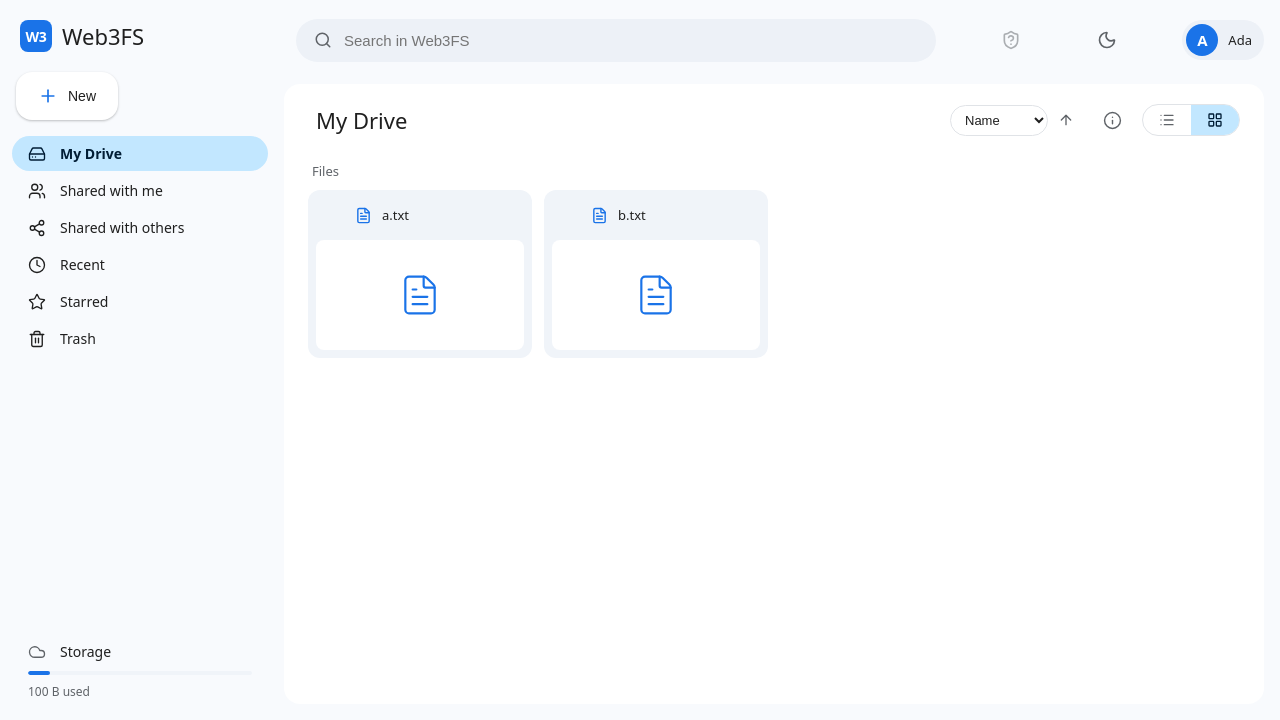
Test: multi-select toolbar › details panel shows the multi-selection summary
Click the element showing "a.txt". click: (420, 274)
box: [308,190,532,358]
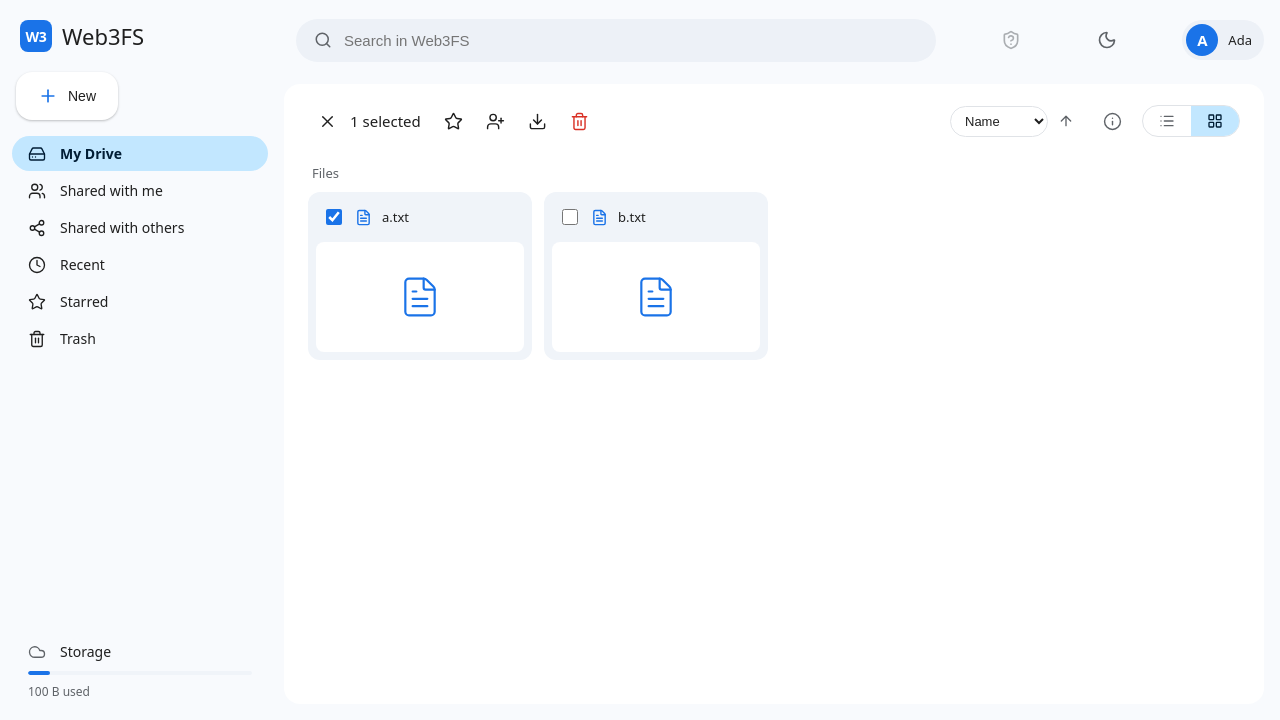
Click the element showing "b.txt". click: (656, 276)
box: [544,192,768,360]
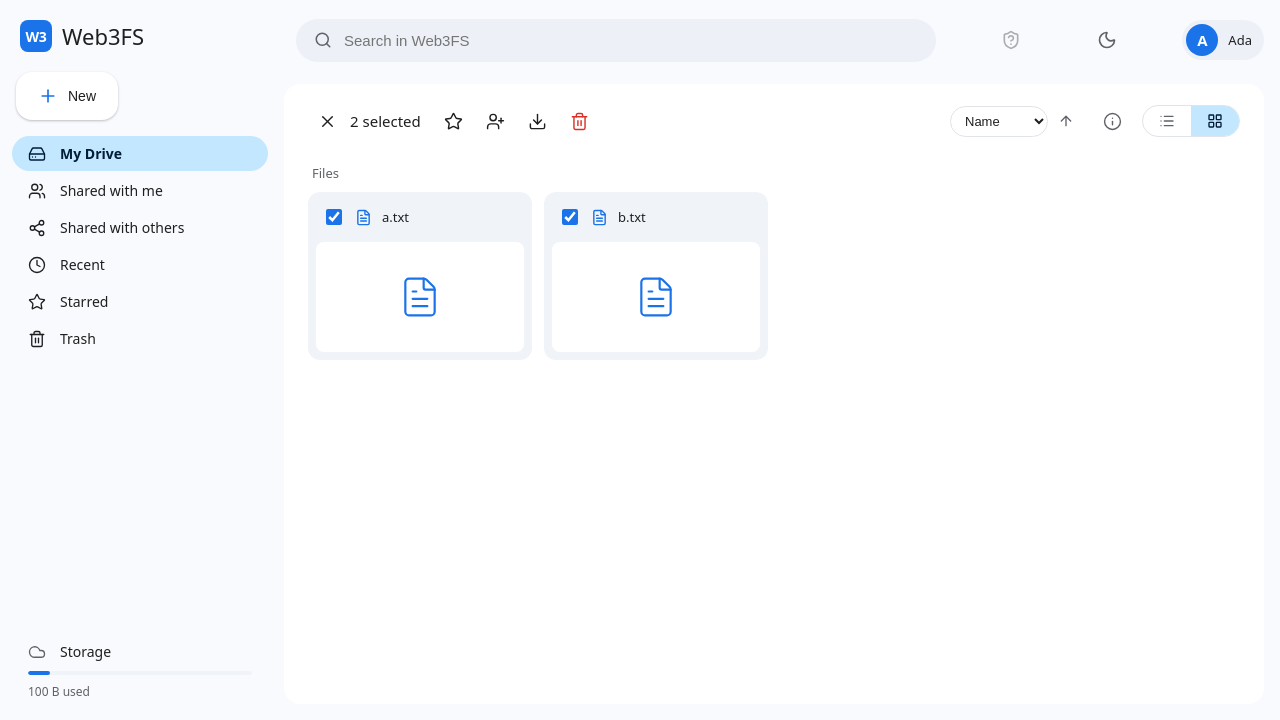
Click the button titled "File details". click: (1112, 121)
box: [1094,103,1130,139]
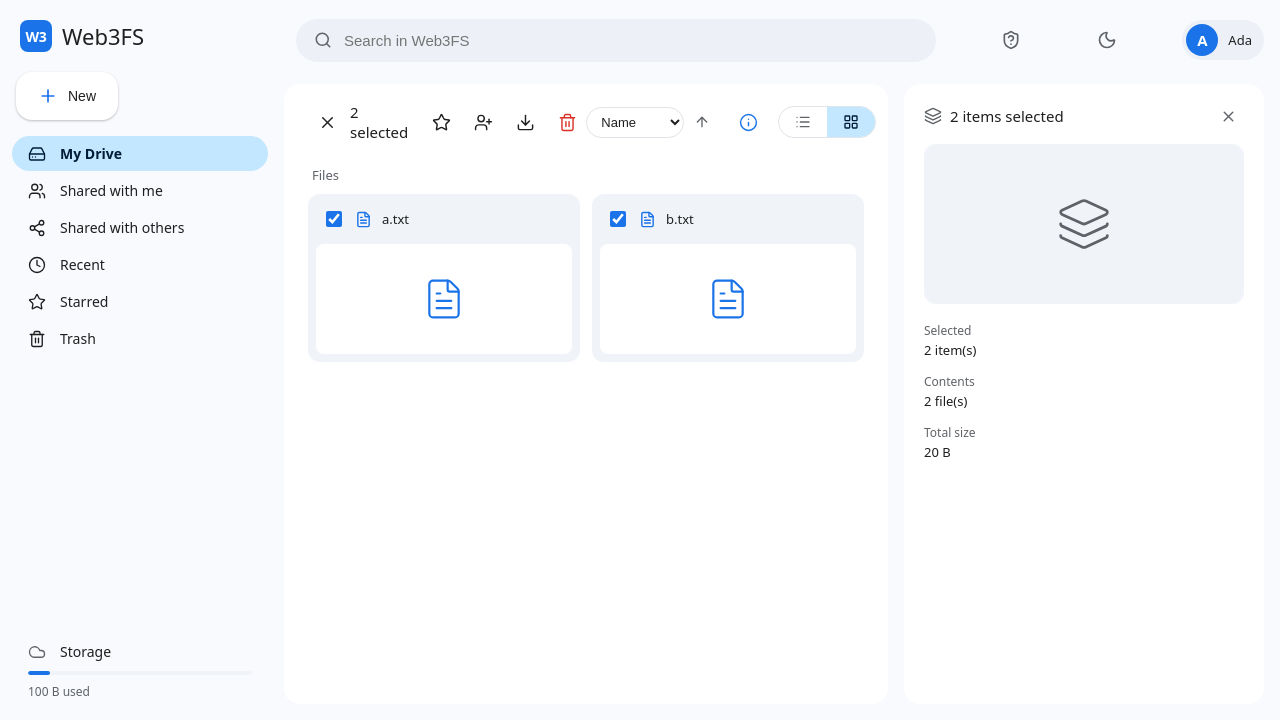
expect the text "2 items selected" is shown: met, box [950,106,1064,126]
